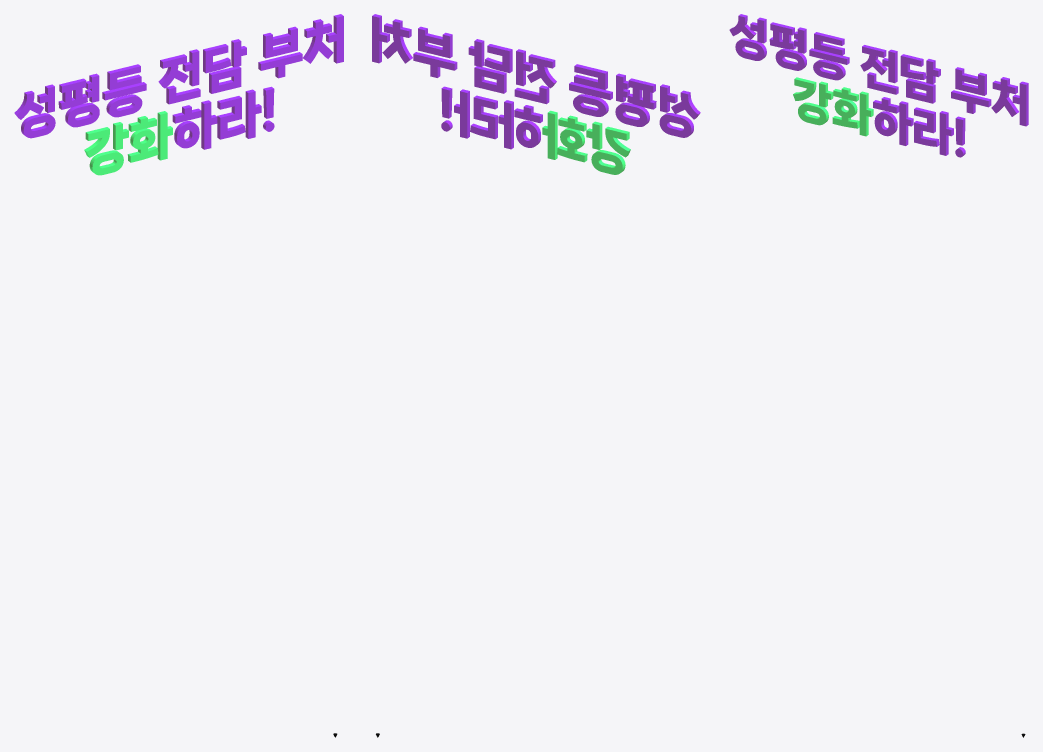
File: yeo3.glb
3 views of the same model, side by side, from view 1: azimuth 30°, elevation 25°; view 2: azimuth 150°, elevation 25°; view 3: azimuth 330°, elevation 25° (orthographic). The views are drawn at different scales.
Parts seen in each view (by area): view 1: Body57, Body7, Body50, Body53, Body65, Body70, Body69, Body71, Body61, Body8, Body68, Body67 (+7 smaller); view 2: Body57, Body7, Body50, Body53, Body65, Body70, Body71, Body61, Body8, Body69, Body67, Body68 (+6 smaller); view 3: Body57, Body7, Body50, Body53, Body65, Body70, Body71, Body61, Body69, Body8, Body67, Body68 (+1 smaller).
Part boxes in pixels (x1,y1,x2,y2): Body57: (217,96,245,139); Body7: (263,26,297,58); Body50: (303,19,333,63); Body53: (127,128,158,162); Body65: (209,66,241,93); Body70: (58,78,87,109); Body69: (107,64,141,90); Body71: (21,113,55,138); Body61: (89,150,123,175); Body8: (65,102,99,127); Body68: (106,94,142,117); Body67: (158,54,188,88); Body57: (470,95,497,139); Body7: (418,26,452,58); Body50: (382,19,412,63); Body53: (557,128,587,162); Body65: (474,66,506,93); Body70: (627,78,656,109); Body71: (659,113,693,137); Body61: (591,150,625,174); Body8: (615,102,649,126); Body69: (574,64,607,89); Body67: (527,54,556,88); Body68: (573,94,608,116); Body57: (914,107,939,146); Body7: (955,67,986,95); Body50: (991,77,1018,116); Body53: (832,98,859,128); Body65: (906,78,935,103); Body70: (769,22,796,49); Body71: (735,38,766,60); Body61: (798,102,828,125); Body69: (814,32,844,55); Body8: (775,48,806,70); Body67: (860,45,887,75); Body68: (813,59,845,80).
Bounding box in the file's own units: 0.9085 × 1.92 × 0.0183.
